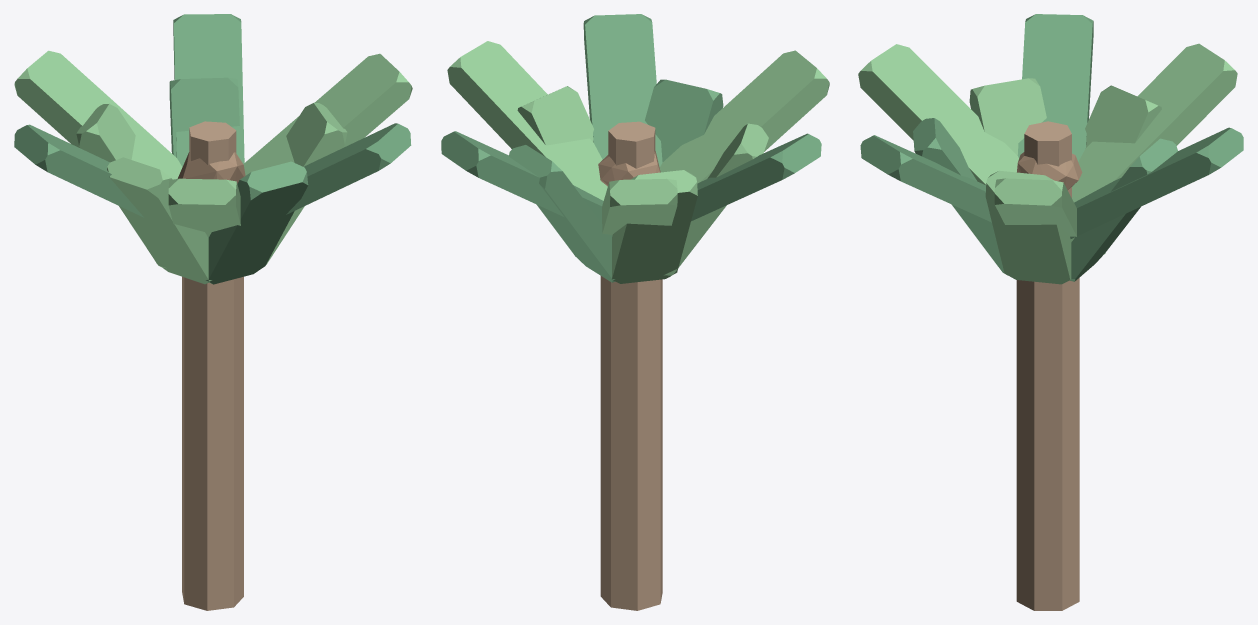
File: palm_a.glb
3 views of the same model, side by side, from view 1: azimuth 30°, elevation 25°; view 2: azimuth 150°, elevation 25°; view 3: azimuth 270°, elevation 25° (orthographic).
Parts seen in each view (by area): view 1: trunk_m0, crown_m7, crown_m5, crown_m6, crown_m3, crown_m4, crown_m2, crown_m0, crown_m1, crown_m9, crown_m8, crown_m10 (+2 smaller); view 2: trunk_m0, crown_m3, crown_m1, crown_m2, crown_m10, crown_m9, crown_m0, crown_m4, crown_m7, crown_m5, crown_m8, crown_m6 (+2 smaller); view 3: trunk_m0, crown_m5, crown_m1, crown_m0, crown_m4, crown_m8, crown_m2, crown_m6, crown_m3, crown_m9, crown_m10, crown_m7 (+2 smaller).
Boxes of the visible parts, box(x1,y1,x2,y2) form: trunk_m0: box(182, 276, 243, 610); crown_m7: box(206, 161, 308, 284); crown_m5: box(14, 50, 182, 179); crown_m6: box(107, 157, 211, 284); crown_m3: box(243, 53, 412, 175); crown_m4: box(173, 14, 244, 166); crown_m2: box(286, 123, 411, 214); crown_m0: box(14, 124, 208, 237); crown_m1: box(168, 178, 240, 236); crown_m9: box(169, 77, 239, 157); crown_m8: box(266, 102, 347, 264); crown_m10: box(76, 104, 167, 268); trunk_m0: box(600, 276, 662, 610); crown_m3: box(447, 41, 607, 200); crown_m1: box(659, 50, 829, 183); crown_m2: box(583, 14, 662, 167); crown_m10: box(611, 170, 697, 283); crown_m9: box(509, 145, 615, 282); crown_m0: box(691, 133, 821, 221); crown_m4: box(441, 131, 612, 236); crown_m7: box(645, 79, 723, 161); crown_m5: box(602, 178, 677, 235); crown_m8: box(517, 86, 593, 145); crown_m6: box(664, 123, 768, 277); trunk_m0: box(1016, 278, 1079, 610); crown_m5: box(1072, 43, 1237, 202); crown_m1: box(858, 44, 1018, 184); crown_m0: box(1017, 14, 1093, 161); crown_m4: box(1070, 127, 1243, 238); crown_m8: box(985, 170, 1071, 284); crown_m2: box(860, 135, 991, 222); crown_m6: box(969, 78, 1046, 155); crown_m3: box(994, 178, 1076, 241); crown_m9: box(1070, 138, 1177, 281); crown_m10: box(1085, 85, 1161, 254); crown_m7: box(913, 118, 1007, 275).
Size of the model in its own units: 2.75 by 3.61 by 2.51.
